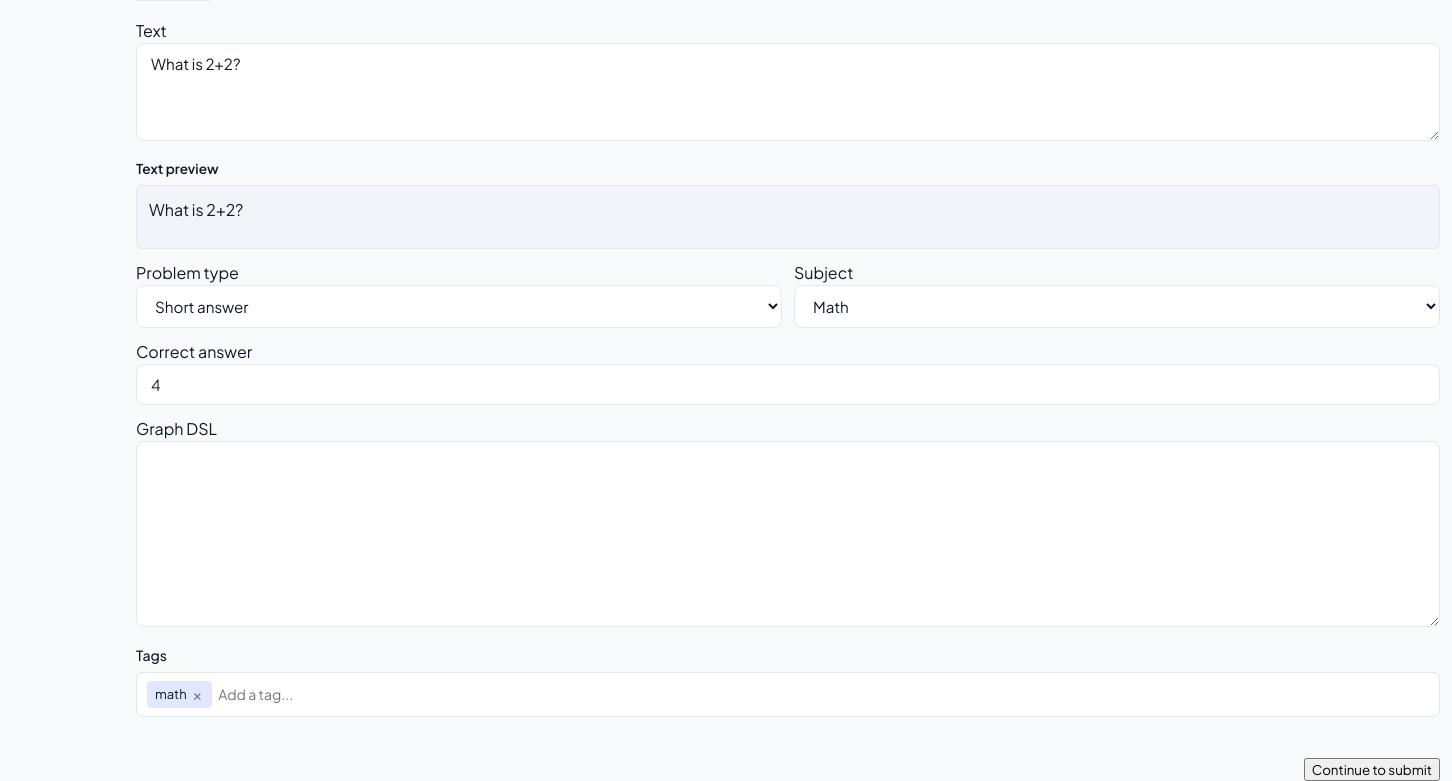
Test: BulkReviewStep › shows tag autocomplete suggestions from existing tags
(page scrolled)
Type "a" into the dropdown with test id "bulk-review-tags-field" at (825, 694), box [218, 681, 1431, 707]
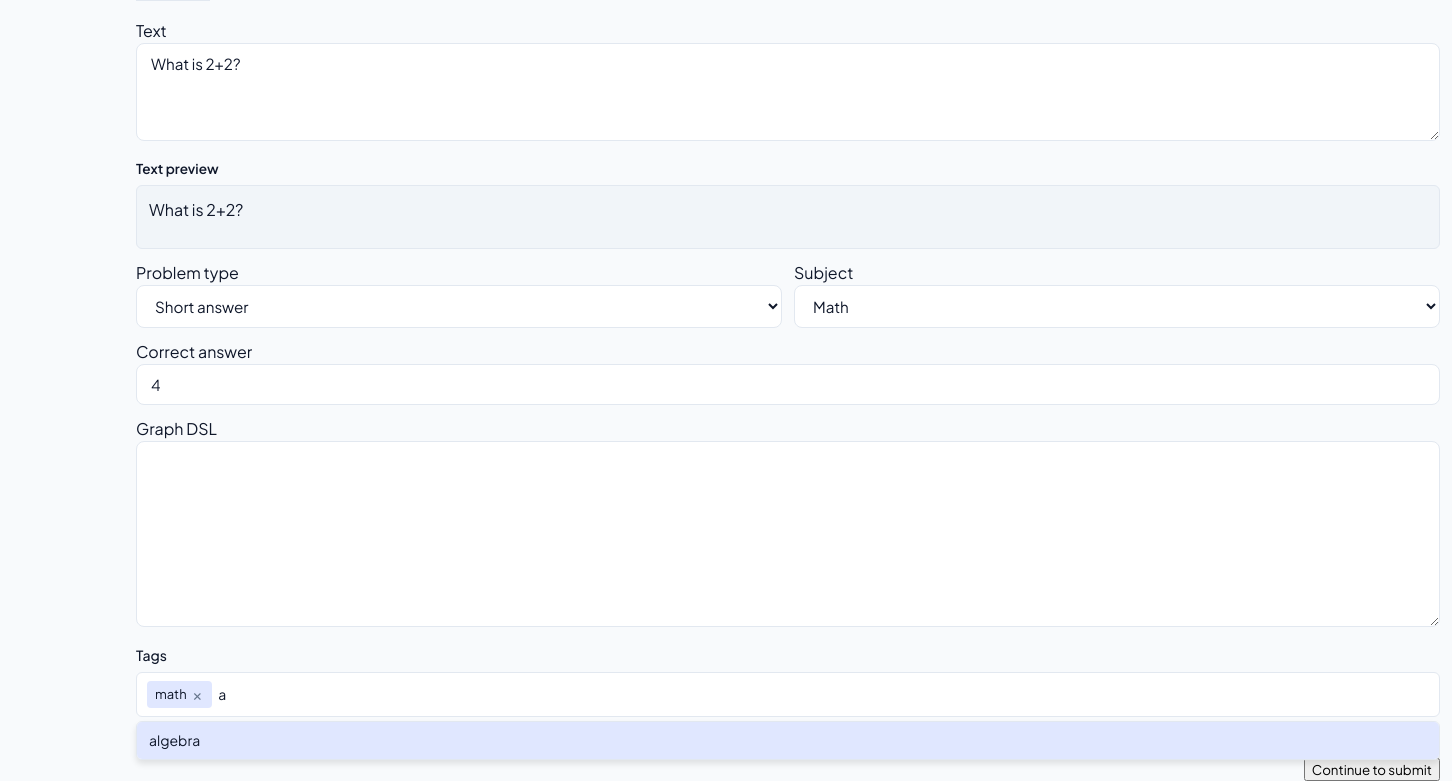
Expected: the option with test id "bulk-review-tags-suggestion-algebra" is shown, [137, 722, 1439, 759]
